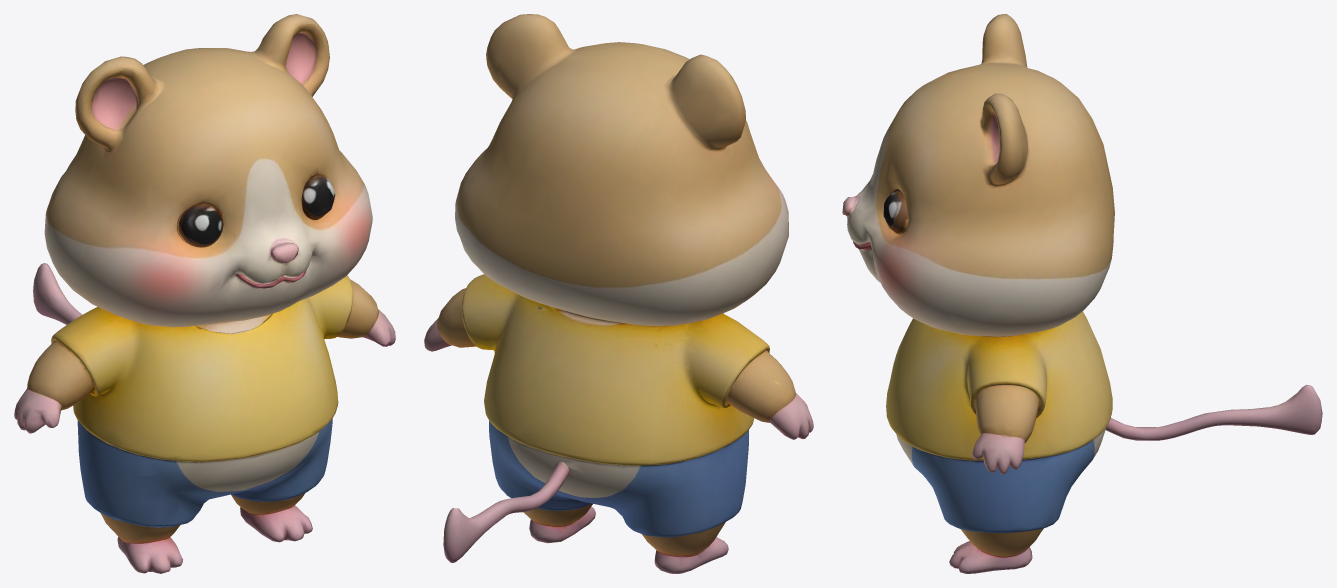
The model's file is npc_be_bin.glb.
3 views of the same model, side by side, from view 1: azimuth 30°, elevation 25°; view 2: azimuth 150°, elevation 25°; view 3: azimuth 270°, elevation 25° (orthographic). The views are drawn at different scales.
Visible parts, largest first — view 1: node_0; view 2: node_0; view 3: node_0.
Boxes of the visible parts, x1,y1,x2,y2 form: node_0: (14,14,395,573); node_0: (424,14,813,573); node_0: (842,14,1322,573).
Size of the model in its own units: 0.812 by 1.05 by 0.9498.
1 material, 1 textured.
